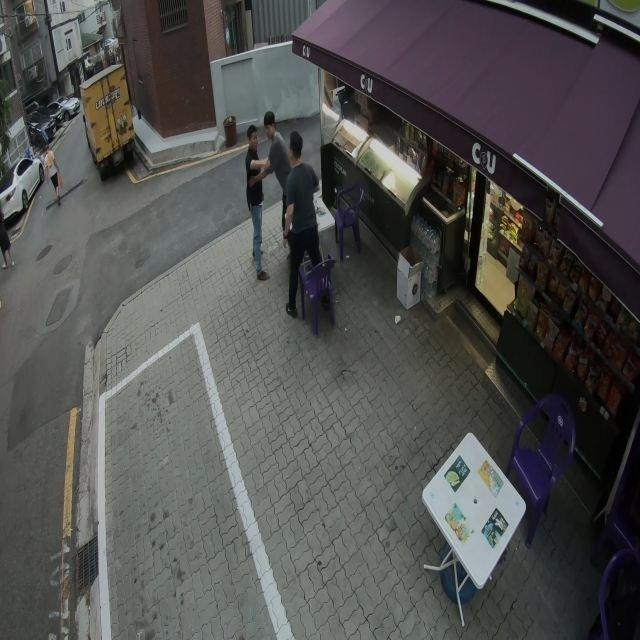fight: (243, 109, 335, 328)
